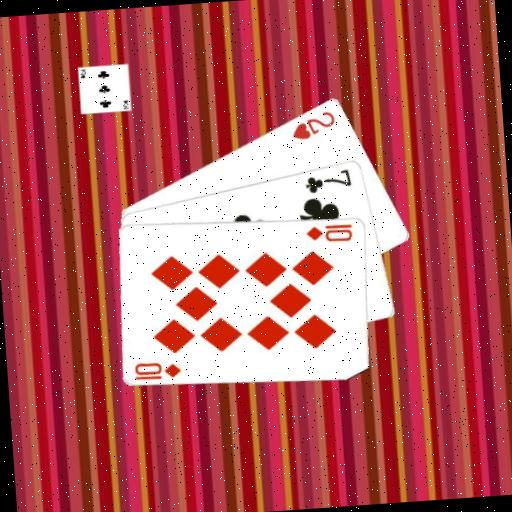10D: (131, 357, 184, 382), (303, 220, 355, 245)
2H: (288, 107, 338, 142)
7C: (302, 165, 355, 195)
